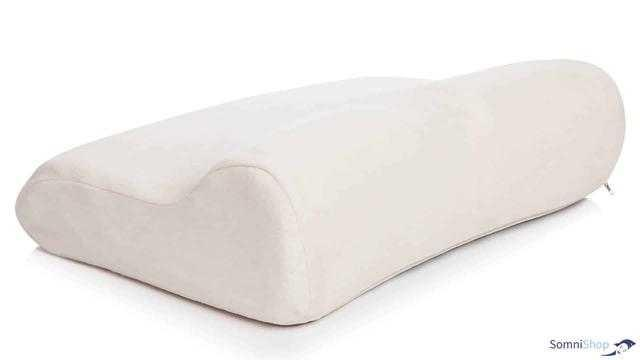pillow: (14, 57, 626, 327)
